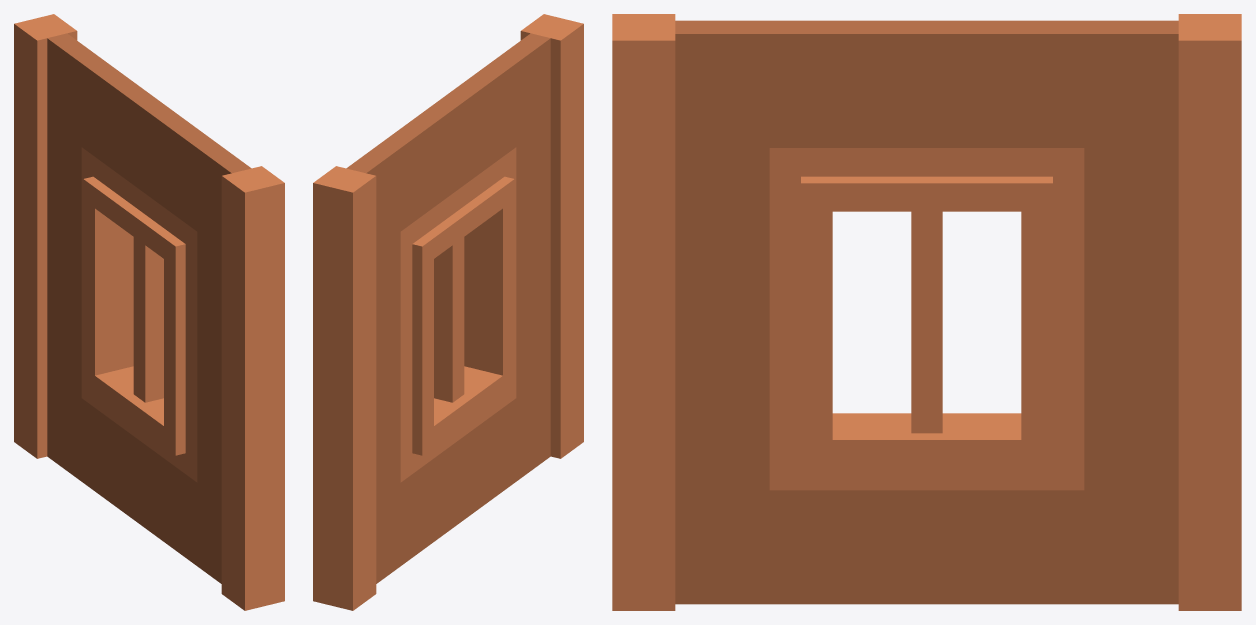
The model's file is wallWoodWindowShutters.obj.
3 views of the same model, side by side, from view 1: azimuth 30°, elevation 25°; view 2: azimuth 150°, elevation 25°; view 3: azimuth 270°, elevation 25° (orthographic). The views are drawn at different scales.
Parts seen in each view (by area): view 1: wallWoodWindowShutters; view 2: wallWoodWindowShutters; view 3: wallWoodWindowShutters.
Part boxes in pixels (box(x1,y1,x2,y2)): wallWoodWindowShutters: box(14, 14, 284, 610); wallWoodWindowShutters: box(313, 14, 583, 610); wallWoodWindowShutters: box(612, 14, 1241, 610).
Size of the model in its own units: 0.1 by 1 by 1.
